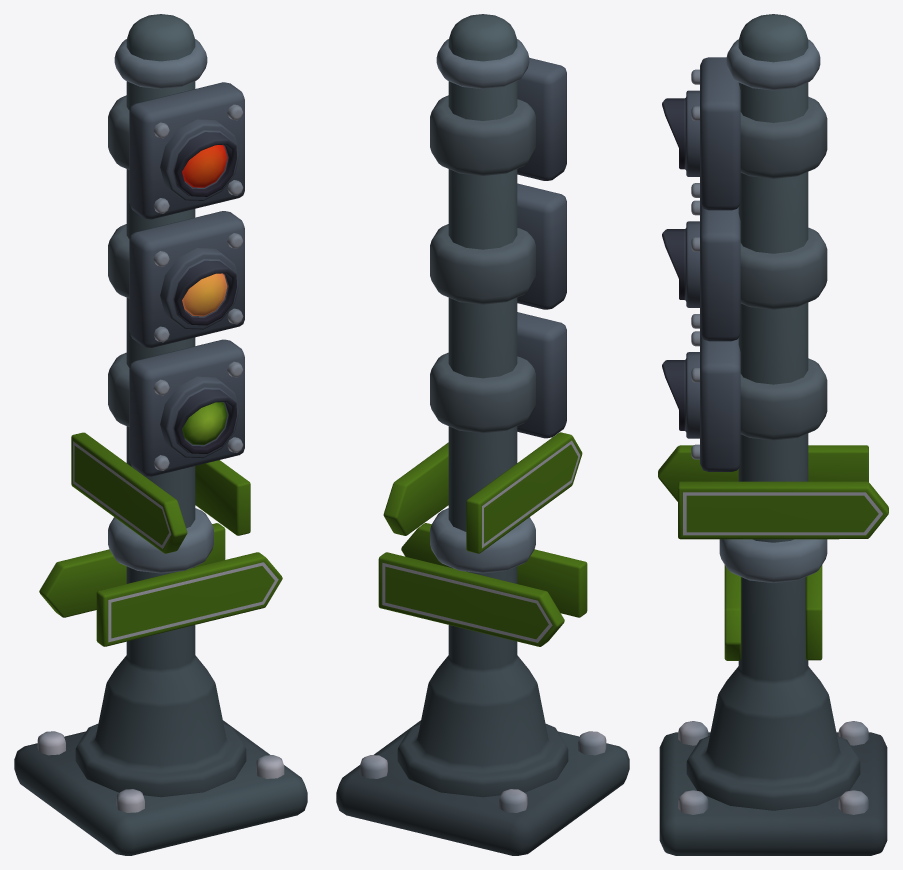
File: mct_prop_trafficlight.fbx
3 views of the same model, side by side, from view 1: azimuth 30°, elevation 25°; view 2: azimuth 150°, elevation 25°; view 3: azimuth 270°, elevation 25° (orthographic).
Visible parts, largest first — view 1: mct_trafficlight; view 2: mct_trafficlight; view 3: mct_trafficlight.
Part boxes in pixels (left/top/right/bottom): mct_trafficlight: left=14, top=14, right=307, bottom=855; mct_trafficlight: left=336, top=14, right=629, bottom=855; mct_trafficlight: left=658, top=14, right=888, bottom=855.
Bounding box in the file's own units: 106 × 399 × 105.
